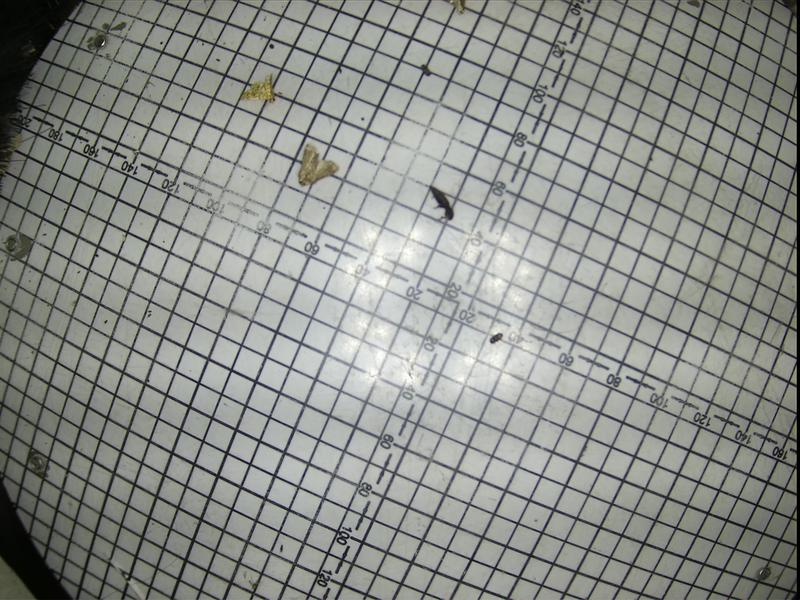Agriotes fuscicollis Miwa: (426, 179, 456, 219)
